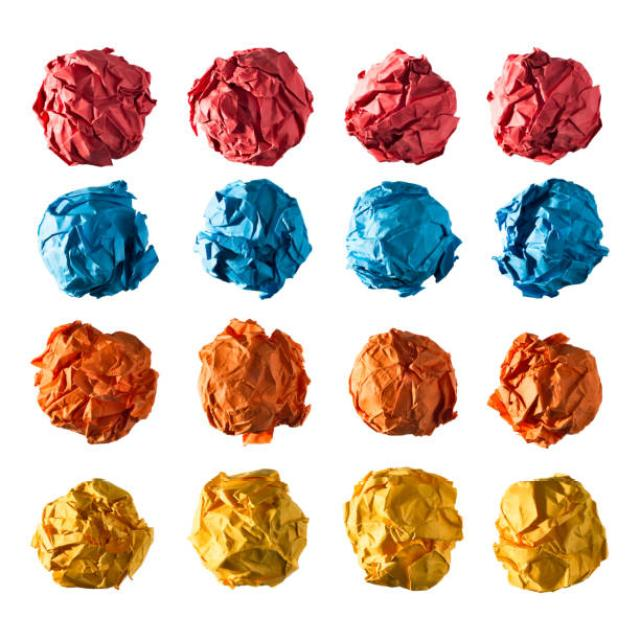electronic: (29, 319, 158, 444), (186, 46, 314, 166), (342, 466, 463, 591), (31, 46, 157, 166), (187, 467, 309, 589), (196, 317, 312, 445), (37, 179, 159, 299), (194, 178, 312, 299), (492, 177, 608, 299), (30, 477, 154, 590), (492, 474, 608, 593), (345, 180, 462, 297), (487, 46, 602, 165), (344, 47, 460, 164), (487, 330, 602, 448), (348, 327, 458, 437)
